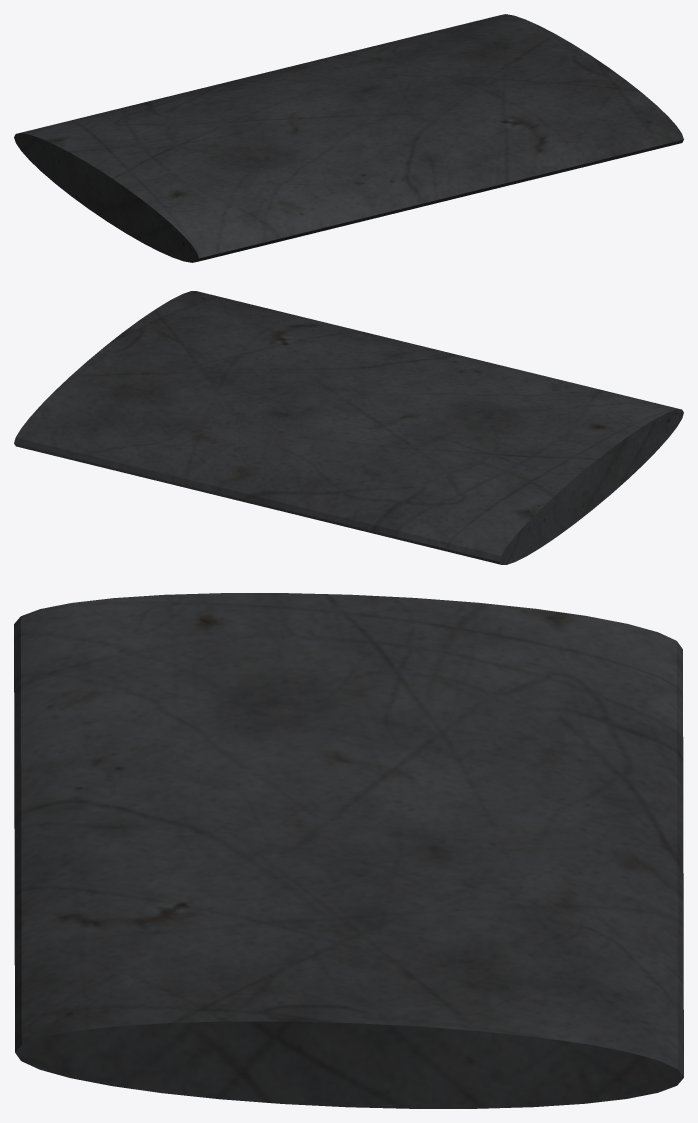
File: BackLeftFin.glb
The picture shows the model from 3 angles, top to bottom: view 1: azimuth 30°, elevation 25°; view 2: azimuth 150°, elevation 25°; view 3: azimuth 270°, elevation 25°; orthographic projection. The views are drawn at different scales.
Visible parts, largest first — view 1: Cylinder.018_Material.001_0.001; view 2: Cylinder.018_Material.001_0.001; view 3: Cylinder.018_Material.001_0.001.
Boxes of the visible parts, x1,y1,x2,y2 form: Cylinder.018_Material.001_0.001: [14, 14, 683, 262]; Cylinder.018_Material.001_0.001: [14, 291, 683, 564]; Cylinder.018_Material.001_0.001: [14, 593, 683, 1108].
Bounding box in the file's own units: 117 × 11.19 × 77.25.
1 material, 1 textured.
